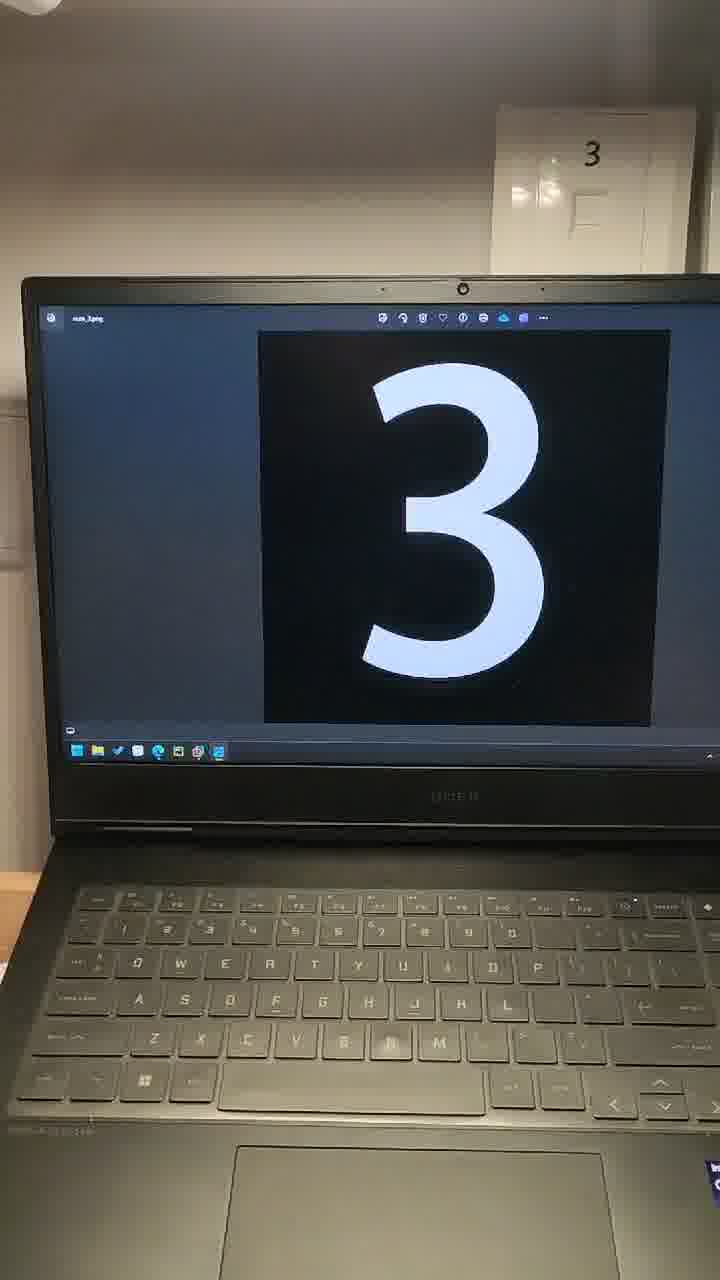three: (325, 339, 592, 752)
